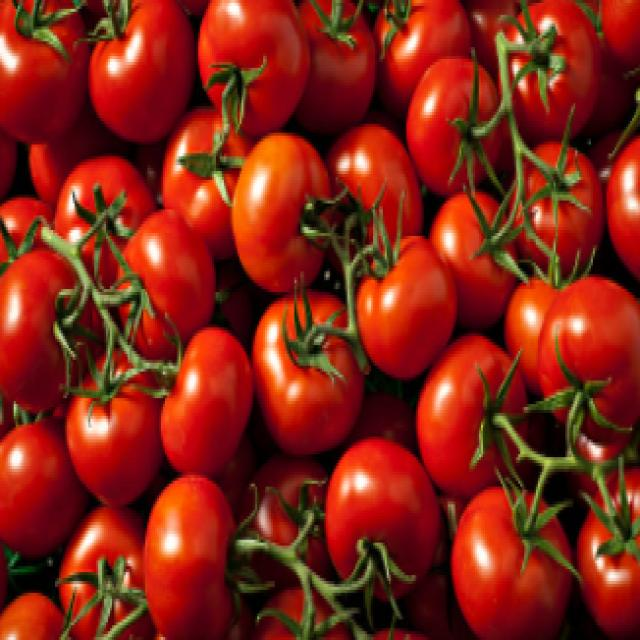Tomato: (146, 459, 272, 640), (415, 324, 526, 506), (325, 430, 442, 602), (253, 282, 374, 443), (456, 471, 570, 640), (234, 119, 340, 279), (202, 0, 326, 134), (44, 147, 157, 292), (544, 280, 640, 440), (362, 210, 456, 370), (86, 0, 207, 119), (158, 337, 260, 467), (414, 52, 508, 181), (499, 2, 595, 123)
